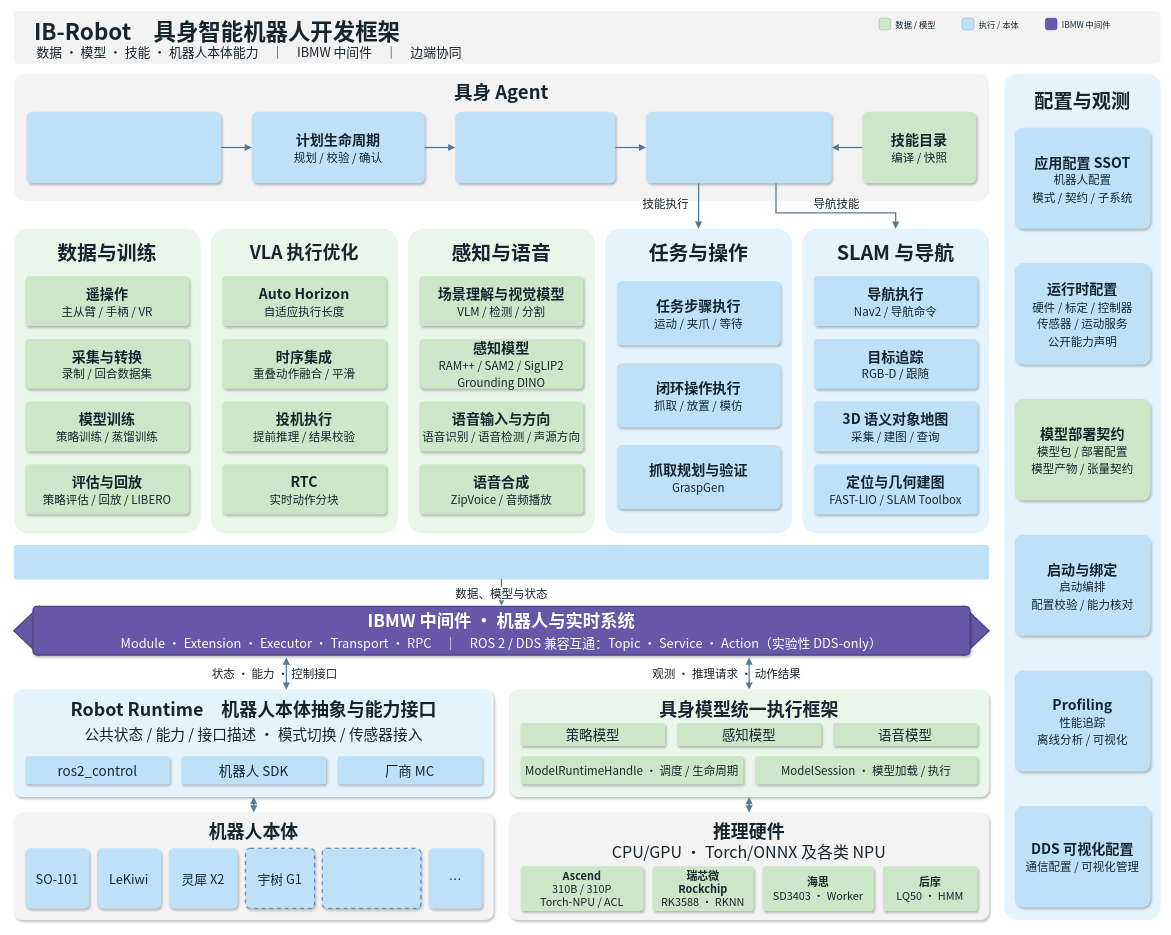
Image size: 1171x935. Some labels were removed from this diagram. Each missing label, with the centre of its shape:
"Agent 入口 Hermes / 自然语言入口 受控技能调用" goes at (x=124, y=148).
"Contract · tensormsg 观测 / 动作契约 ｜ ROS 消息 ↔ tensor ｜ 时间戳对齐" goes at (x=501, y=562).
"安全预检 只读校验 / 运行时状态" goes at (x=535, y=148).
"技能执行网关 授权 / 准入 / 技能执行" goes at (x=739, y=148).
"萝博派对 （RoboParty）" goes at (x=372, y=879).
